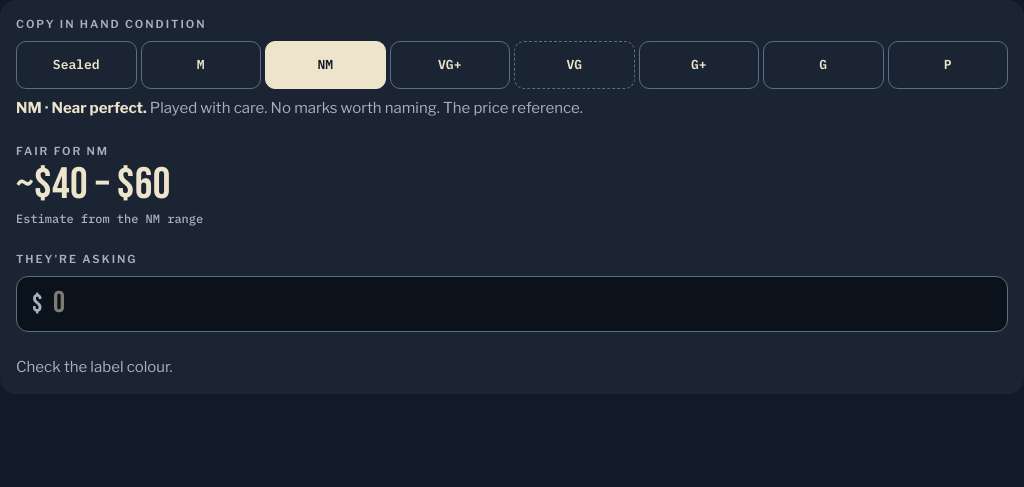
Test: PriceCheck › keeps at most one dot in the asking price
In the field labelled "They're asking": point(512, 304) [16, 276, 1008, 332], type "1.2.3"
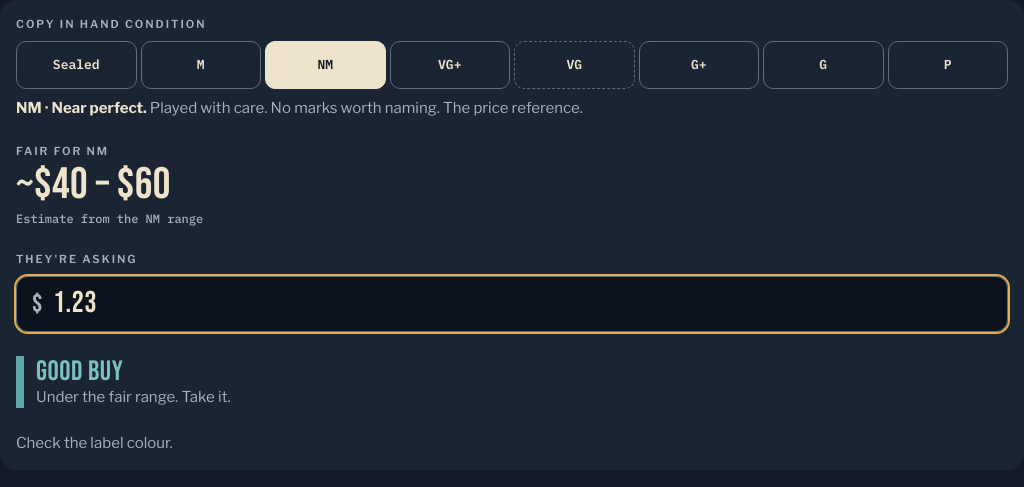
Now the field labelled "They're asking" holds "1.23", box [16, 276, 1008, 332]
Now the message "Good buy Under the fair range. Take it." is shown, box [16, 354, 231, 408]
